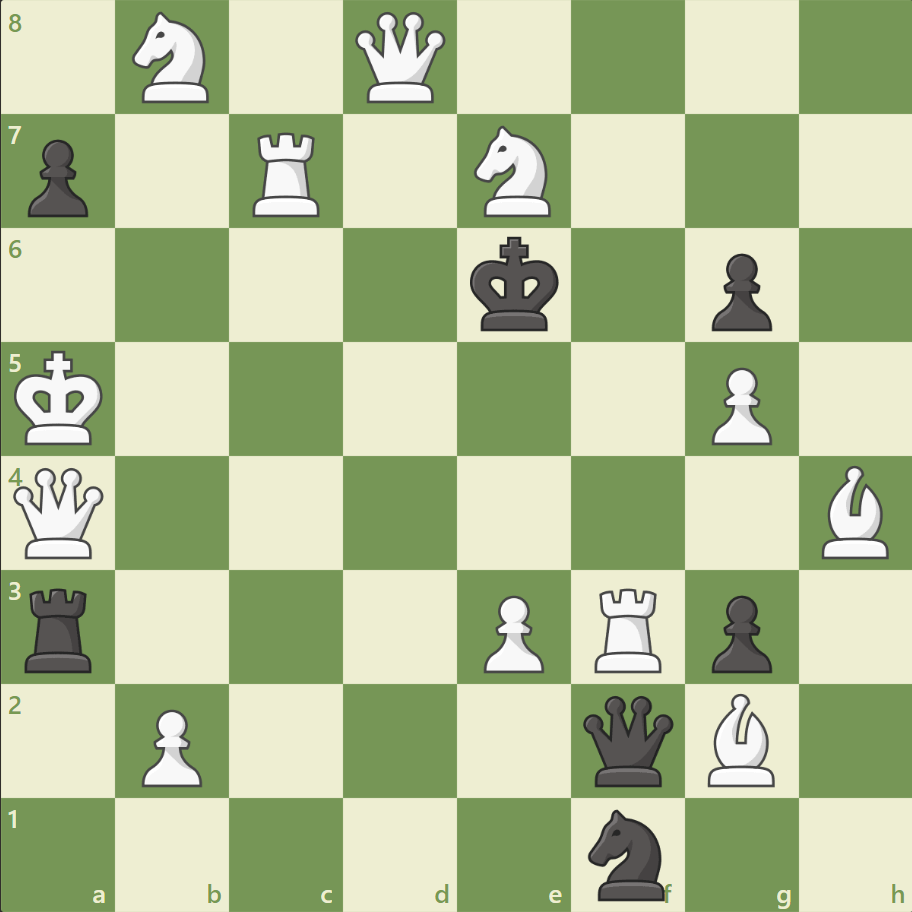B: (812, 460, 896, 563), (698, 687, 782, 790)
K: (11, 344, 111, 452)
N: (124, 7, 222, 110), (465, 121, 562, 223)
P: (701, 359, 776, 450), (474, 586, 549, 677), (133, 700, 208, 791)
Q: (351, 9, 450, 108), (10, 463, 109, 562)
R: (246, 125, 329, 222), (587, 579, 670, 676)
k: (465, 231, 565, 339)
n: (579, 802, 676, 904)
p: (20, 132, 95, 223), (701, 246, 776, 337), (701, 586, 776, 677)
q: (578, 690, 677, 789)
r: (19, 579, 102, 676)
